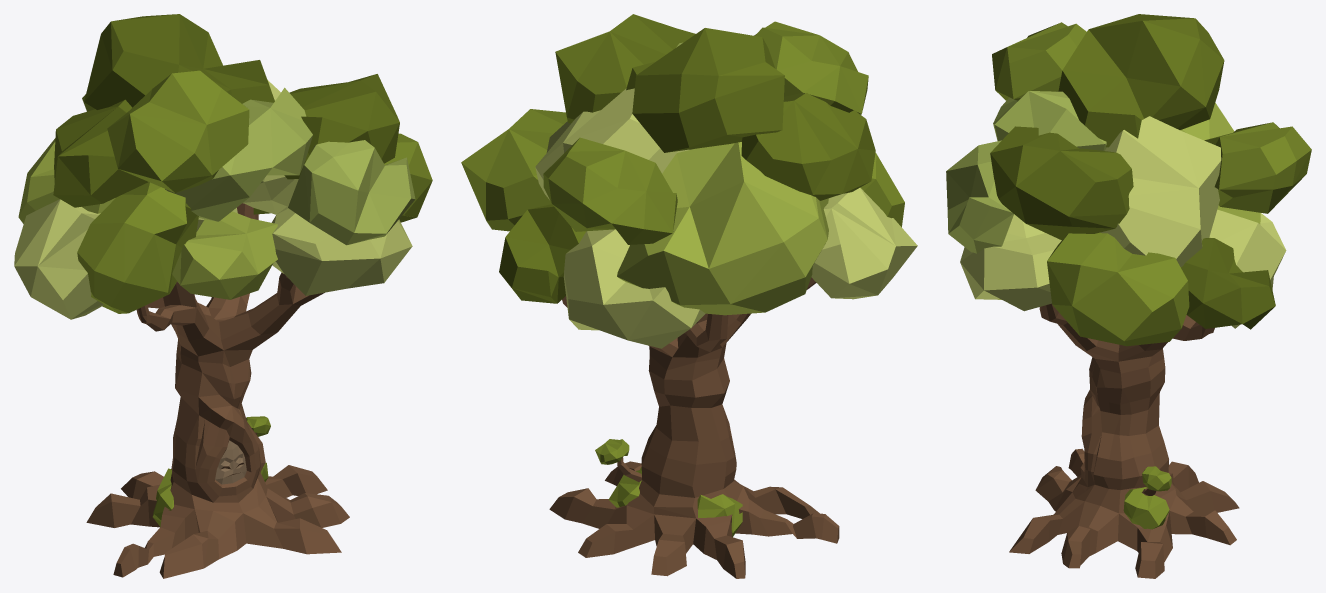
Rendered from tree_character.fbx.
The picture shows the model from 3 angles, left to right: view 1: azimuth 30°, elevation 25°; view 2: azimuth 150°, elevation 25°; view 3: azimuth 270°, elevation 25°; orthographic projection. The views are drawn at different scales.
Parts seen in each view (by area): view 1: Cylinder; view 2: Cylinder; view 3: Cylinder.
Part boxes in pixels (<box>): Cylinder: <box>14,14,432,578</box>; Cylinder: <box>461,14,917,578</box>; Cylinder: <box>946,14,1311,578</box>.
Bounding box in the file's own units: 7.83 × 6.29 × 9.33.
